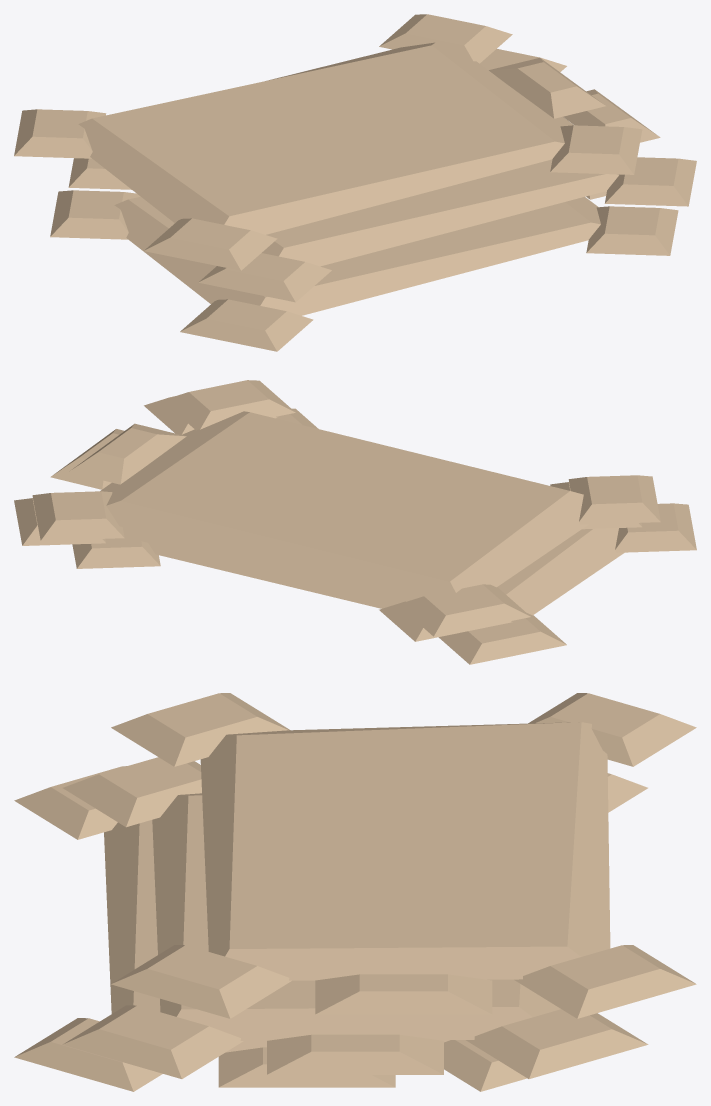
Rendered from item_006_hide_m.glb.
3 renders of one model, top to bottom at view 1: azimuth 30°, elevation 25°; view 2: azimuth 150°, elevation 25°; view 3: azimuth 270°, elevation 25°, orthographic. The views are drawn at different scales.
Parts seen in each view (by area): view 1: item_006_hide_m; view 2: item_006_hide_m; view 3: item_006_hide_m.
Boxes of the visible parts, x1,y1,x2,y2 form: item_006_hide_m: (14,14,696,351); item_006_hide_m: (14,380,696,664); item_006_hide_m: (14,693,696,1091).
Bounding box in the file's own units: 1.03 × 0.1379 × 0.8476.
